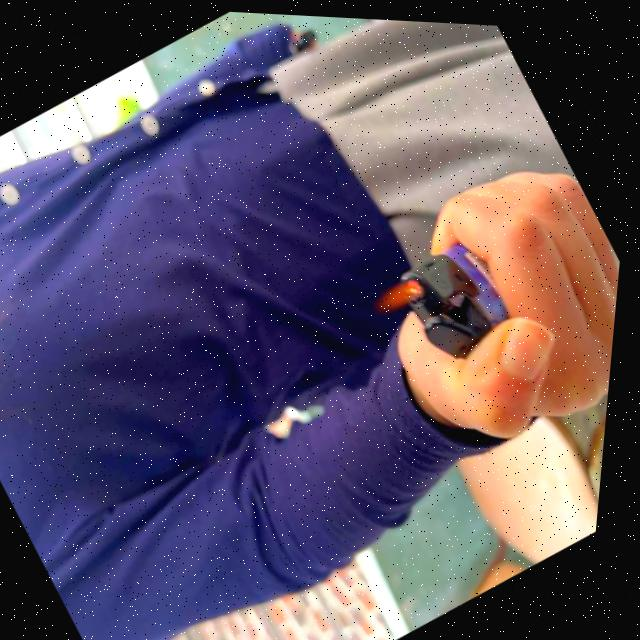Fire: (374, 267, 431, 315)
